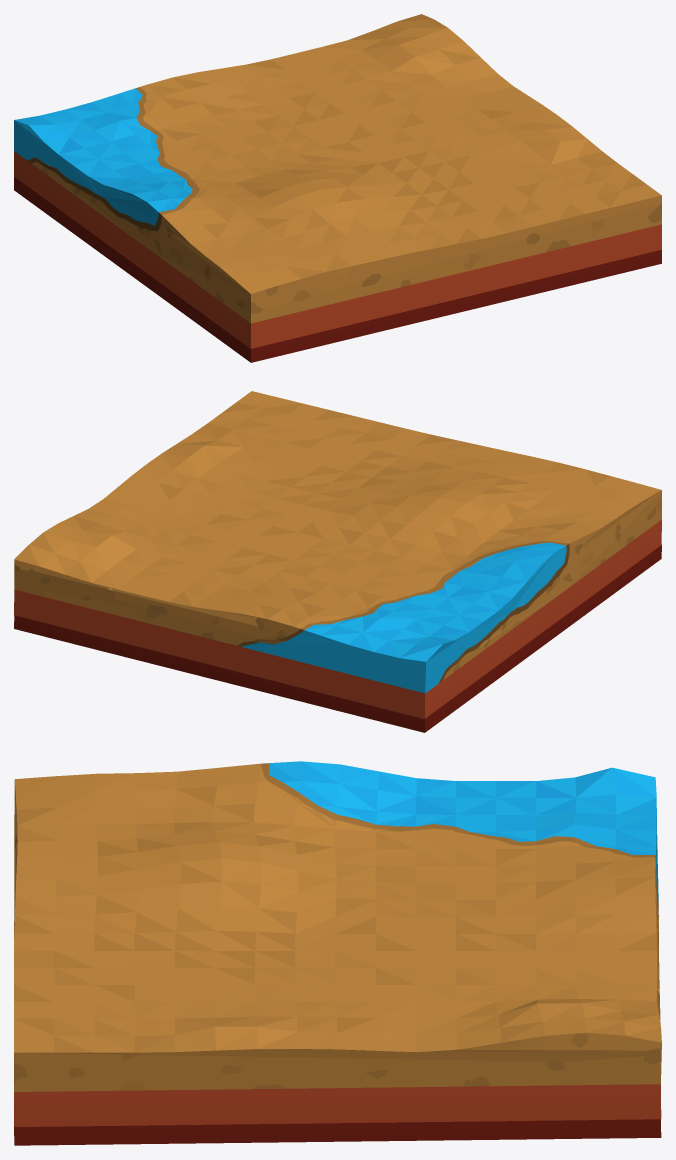
Rendered from ground.fbx.
3 renders of one model, top to bottom at view 1: azimuth 30°, elevation 25°; view 2: azimuth 150°, elevation 25°; view 3: azimuth 270°, elevation 25°, orthographic. The views are drawn at different scales.
Visible parts, largest first — view 1: Cube.571; view 2: Cube.571; view 3: Cube.571.
Boxes of the visible parts, x1,y1,x2,y2 form: Cube.571: [14, 14, 661, 362]; Cube.571: [14, 391, 661, 732]; Cube.571: [14, 761, 661, 1145].
Size of the model in its own units: 160 by 31.07 by 160.
1 material, 1 textured.
